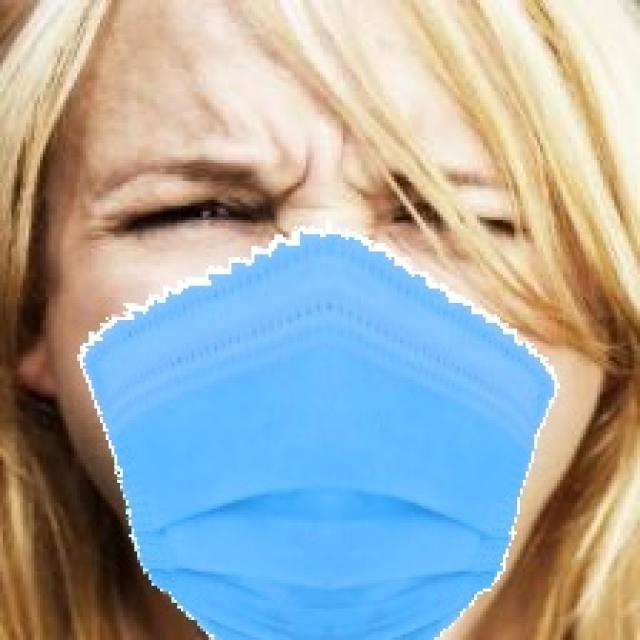mask: (57, 234, 611, 640)
